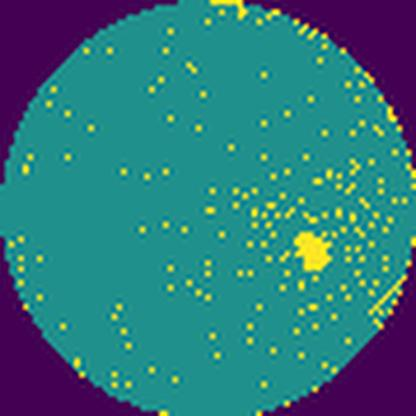Loc: (292, 230, 334, 274)
